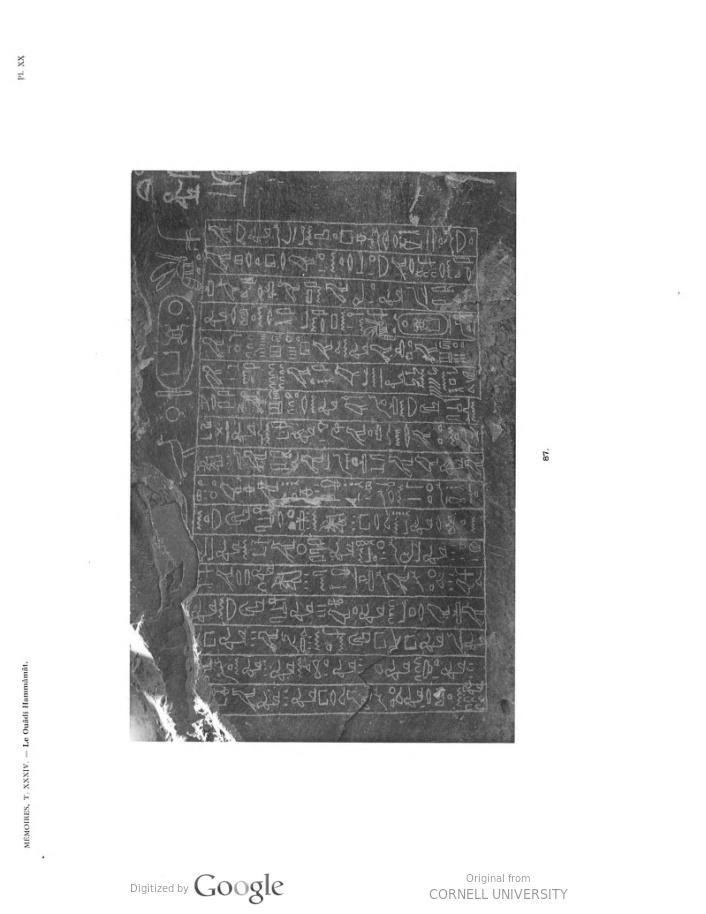circle: (153, 281, 213, 405), (388, 303, 456, 341)
